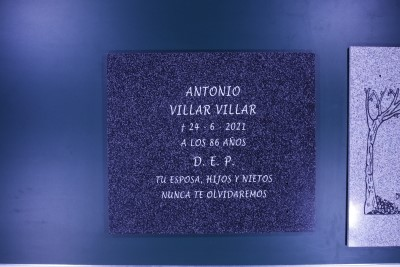lapidas: (103, 53, 314, 234)
